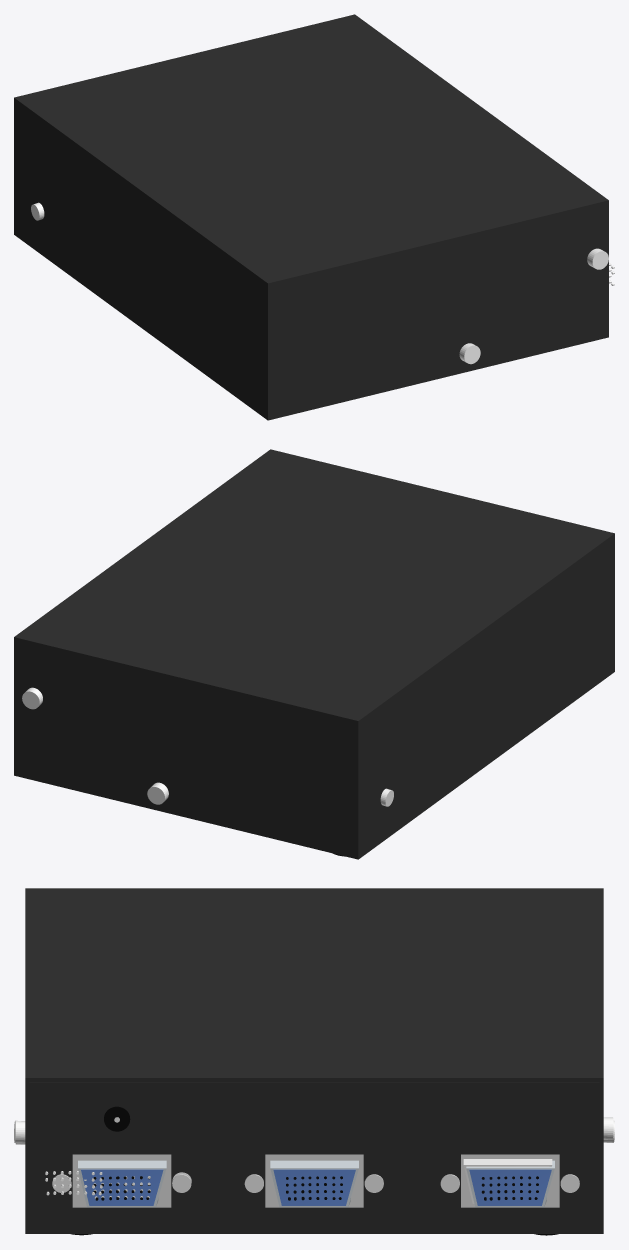
The model's file is vga 1 to 2.glb.
3 renders of one model, top to bottom at view 1: azimuth 30°, elevation 25°; view 2: azimuth 150°, elevation 25°; view 3: azimuth 270°, elevation 25°, orthographic. The views are drawn at different scales.
Parts seen in each view (by area): view 1: Kubus; view 2: Kubus; view 3: Kubus, Kubus010, Kubus006, Kubus013, Kubus003, Kubus002, Kubus005, Kubus012, Kubus004, Kubus001, Kubus007, Kubus011 (+1 smaller).
Boxes of the visible parts, box(x1,y1,x2,y2) form: Kubus: box(14, 14, 608, 420); Kubus: box(14, 449, 614, 859); Kubus: box(25, 888, 603, 1233); Kubus010: box(29, 1082, 599, 1229); Kubus006: box(273, 1169, 355, 1205); Kubus013: box(469, 1169, 551, 1205); Kubus003: box(81, 1169, 163, 1205); Kubus002: box(72, 1154, 171, 1207); Kubus005: box(265, 1154, 363, 1207); Kubus012: box(461, 1154, 559, 1207); Kubus004: box(270, 1160, 358, 1207); Kubus001: box(78, 1160, 166, 1207); Kubus007: box(463, 1159, 552, 1203); Kubus011: box(466, 1160, 554, 1207).
Size of the model in its own units: 2.01 by 0.7842 by 2.53.
